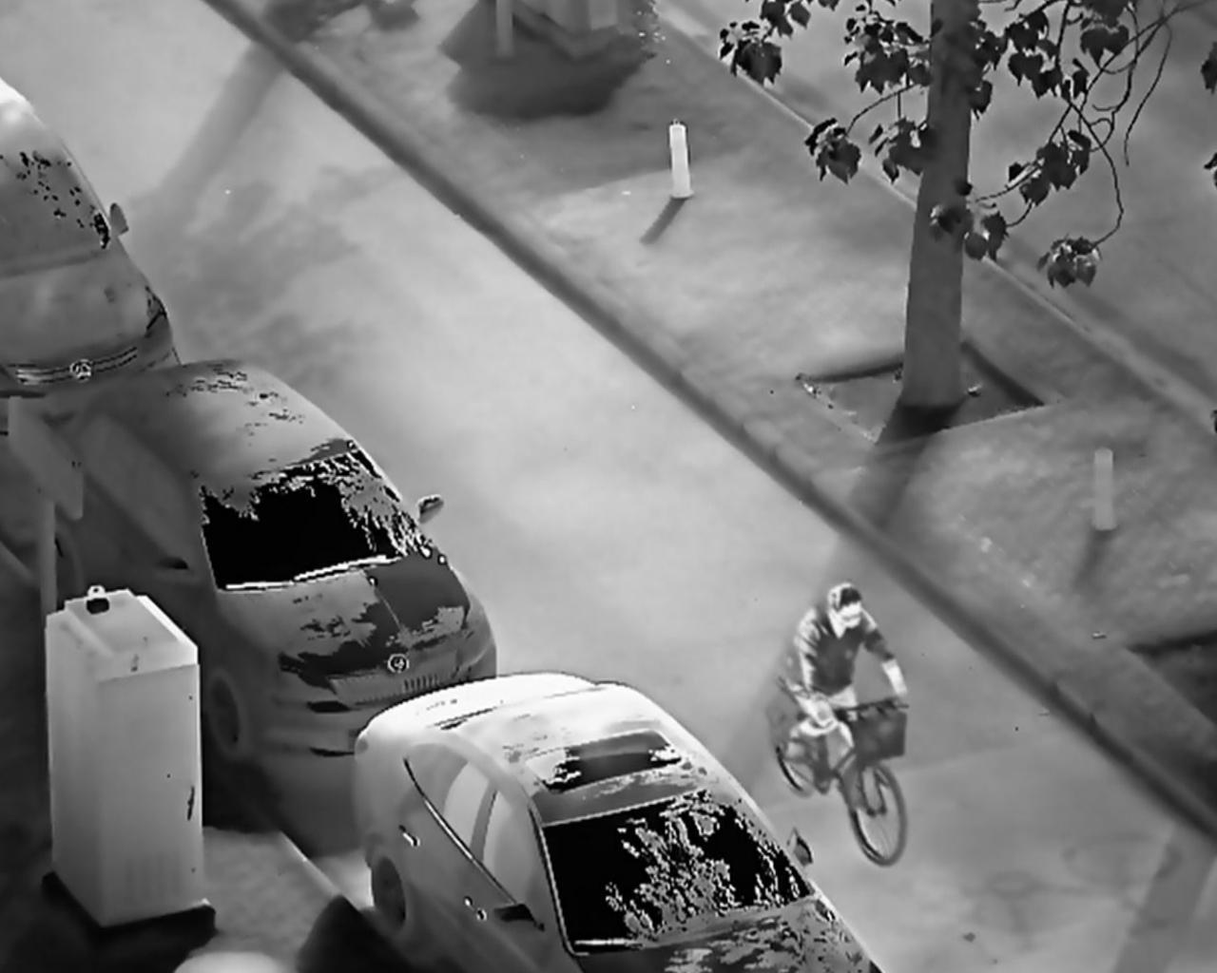person: (788, 580, 912, 793)
